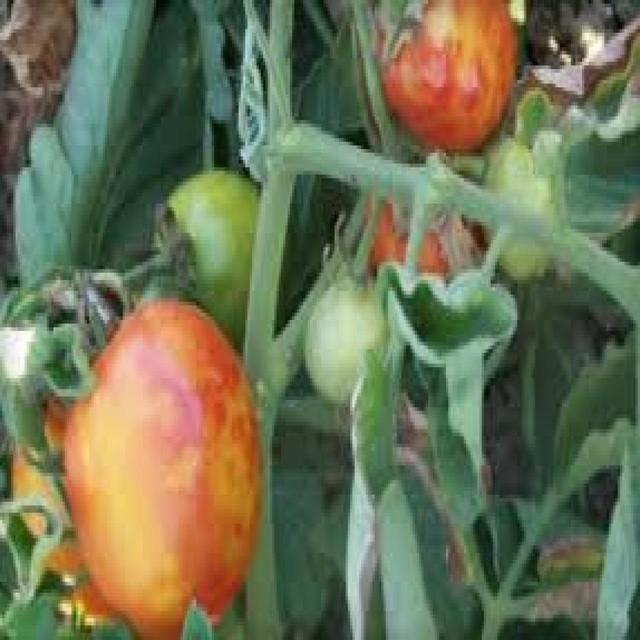Spotted wilt Virus Fruit: (98, 53, 298, 313)
